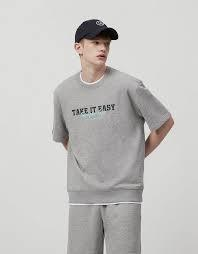Tshirt: (51, 65, 172, 203)
